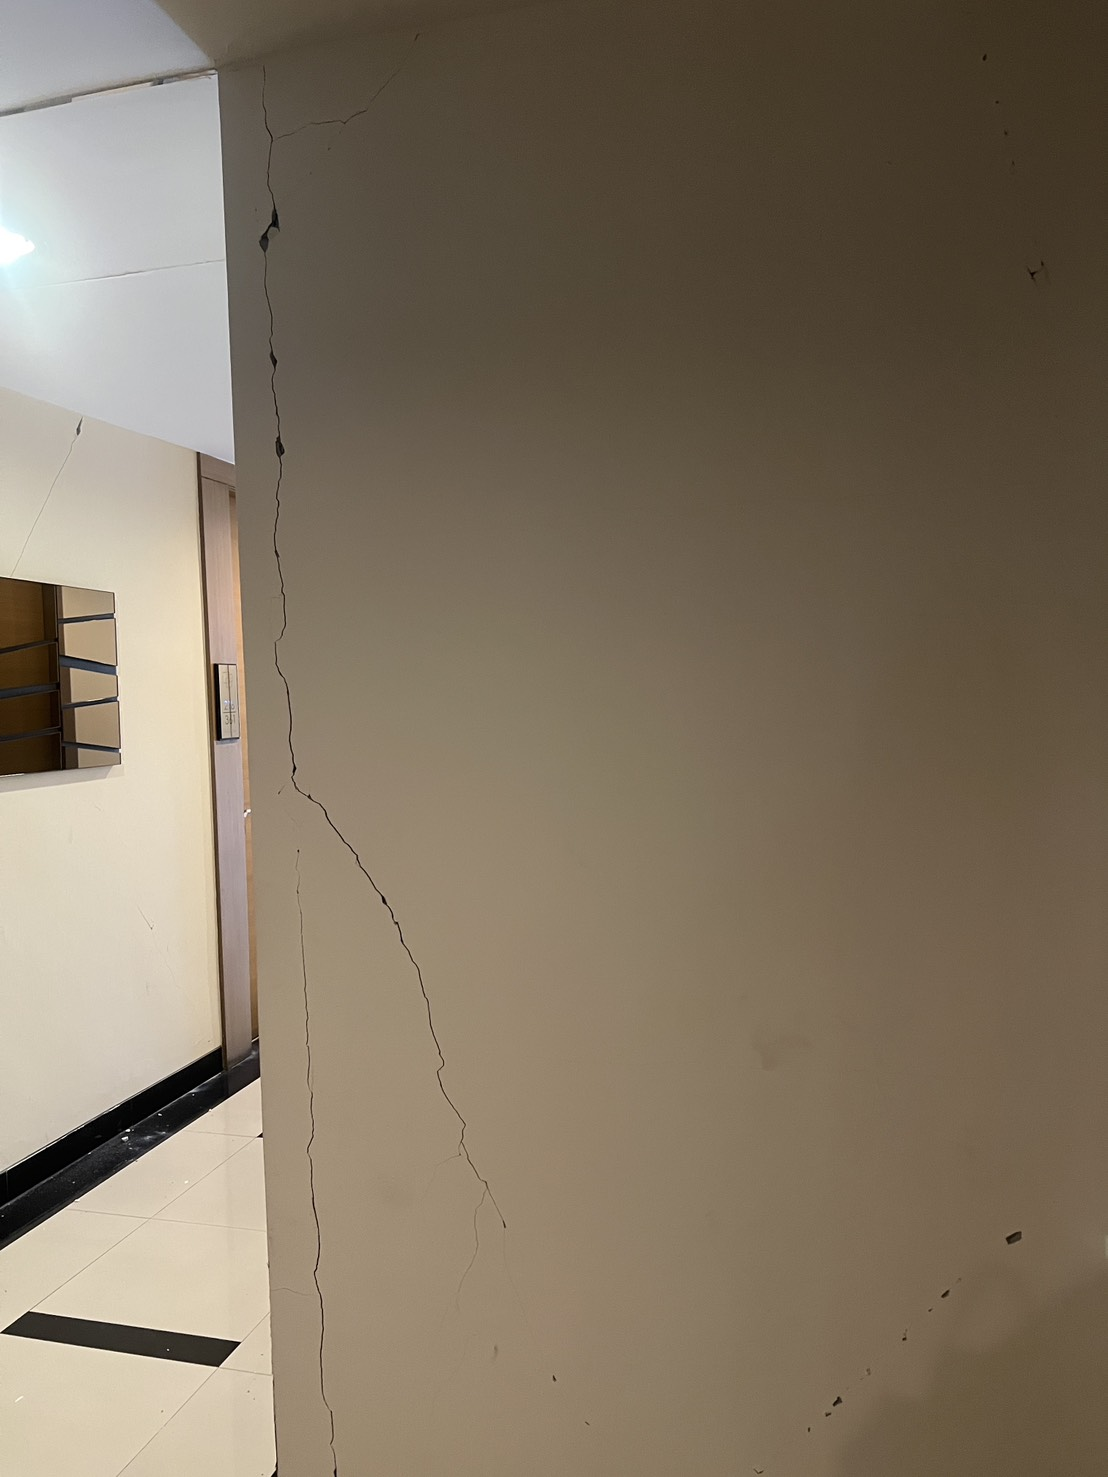Medium: (244, 199, 324, 732)
